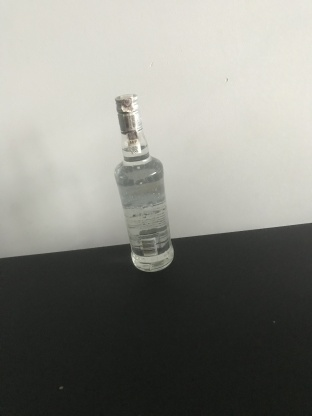nakretka: (113, 91, 143, 135)
